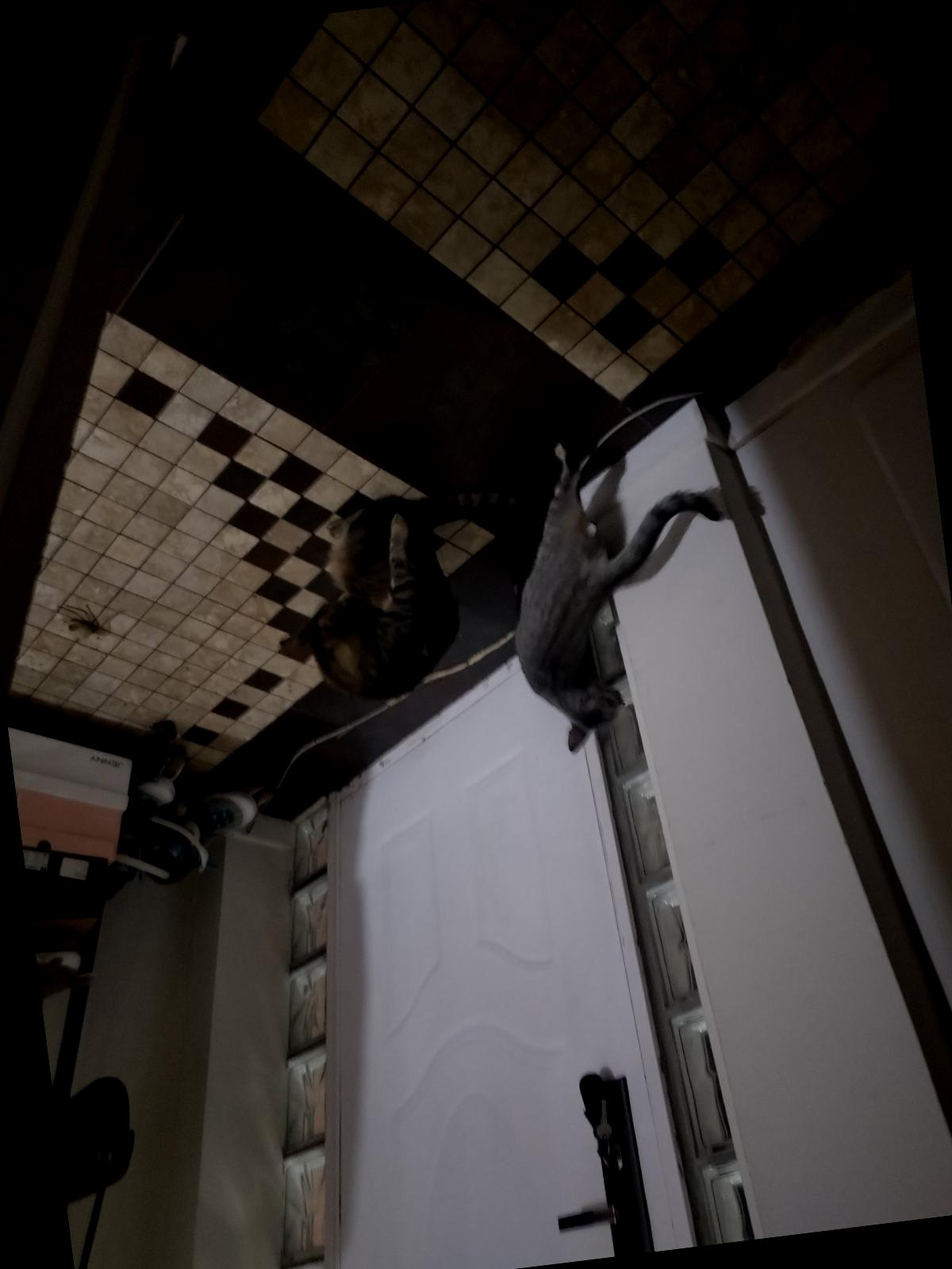macka: (486, 424, 745, 756), (277, 479, 566, 710)
